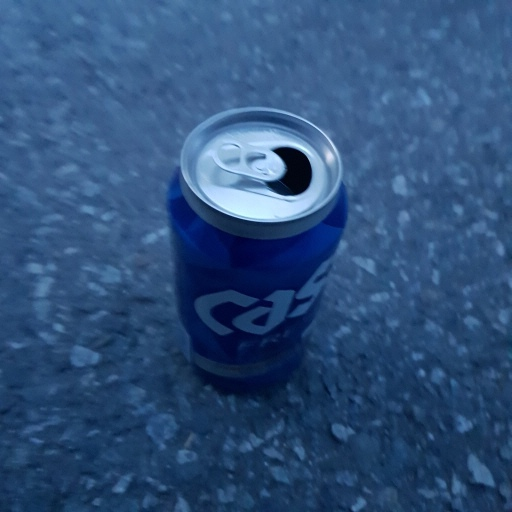Metal_0: (164, 104, 350, 381)
